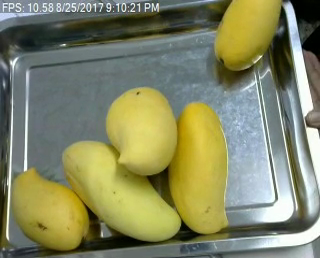Mango: (58, 138, 185, 244), (170, 101, 232, 235), (10, 165, 93, 250), (109, 84, 178, 180), (210, 1, 285, 74)
